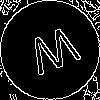W: (25, 25, 86, 85)
